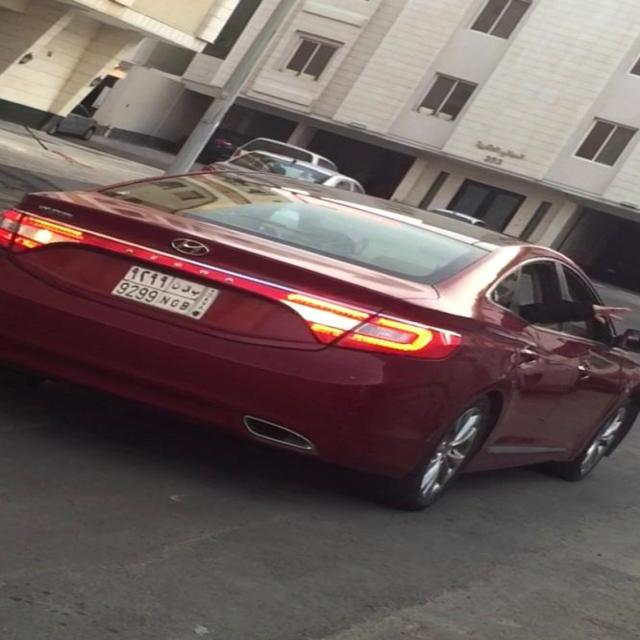Car-plate: (84, 251, 239, 335)
